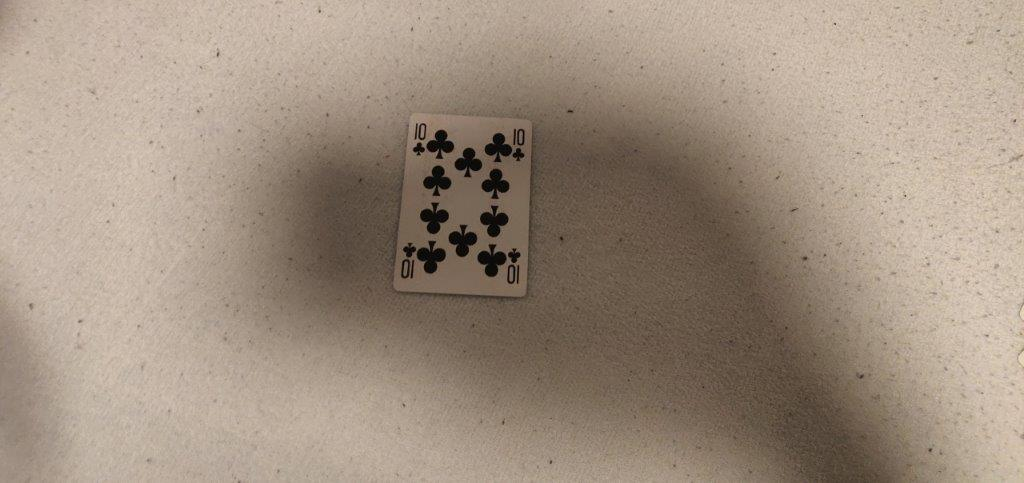10C: (409, 120, 429, 160), (510, 127, 527, 163)
